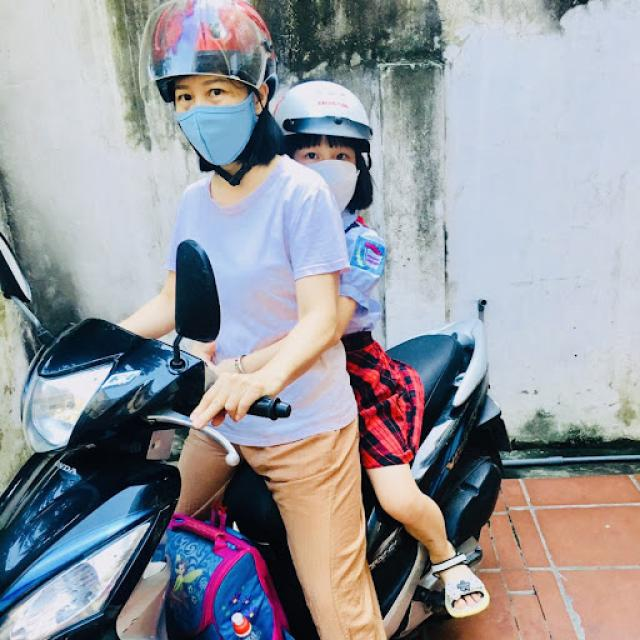1-2-helmet: (272, 80, 373, 139)
